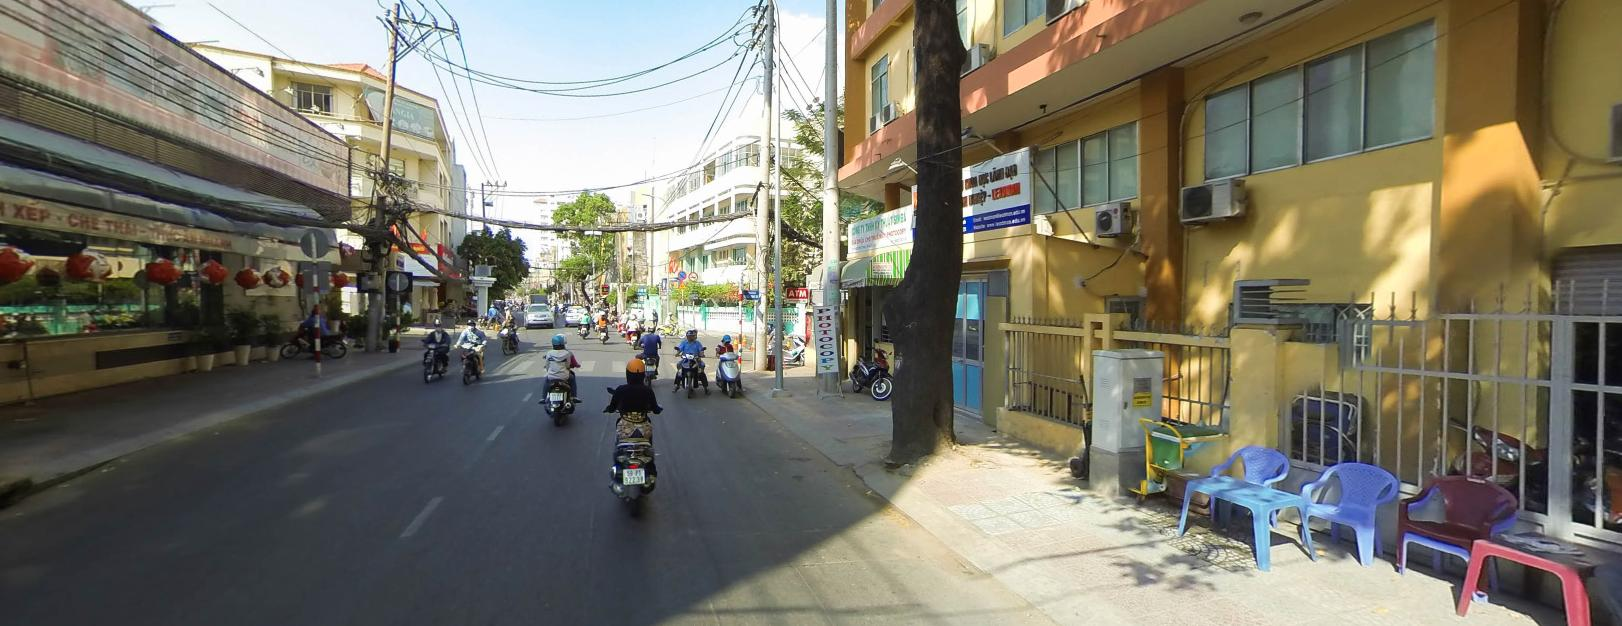Cam con lai: (689, 270, 698, 280)
Cam dung va do: (678, 269, 686, 278)
